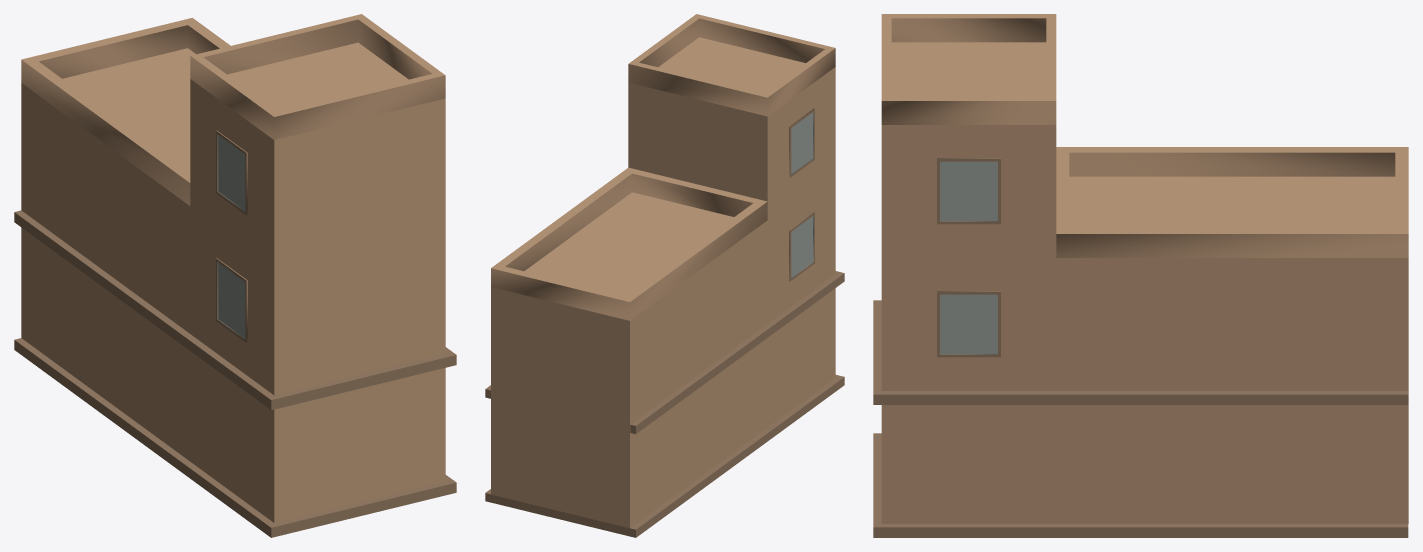
File: Desert Houses(2).glb
3 views of the same model, side by side, from view 1: azimuth 30°, elevation 25°; view 2: azimuth 150°, elevation 25°; view 3: azimuth 270°, elevation 25° (orthographic). The views are drawn at different scales.
Parts seen in each view (by area): view 1: Root; view 2: Root; view 3: Root.
Boxes of the visible parts, left/top/right/bottom form: Root: left=14, top=14, right=456, bottom=537; Root: left=485, top=14, right=844, bottom=537; Root: left=873, top=14, right=1408, bottom=537.
Bounding box in the file's own units: 4.51 × 9.67 × 10.83.
